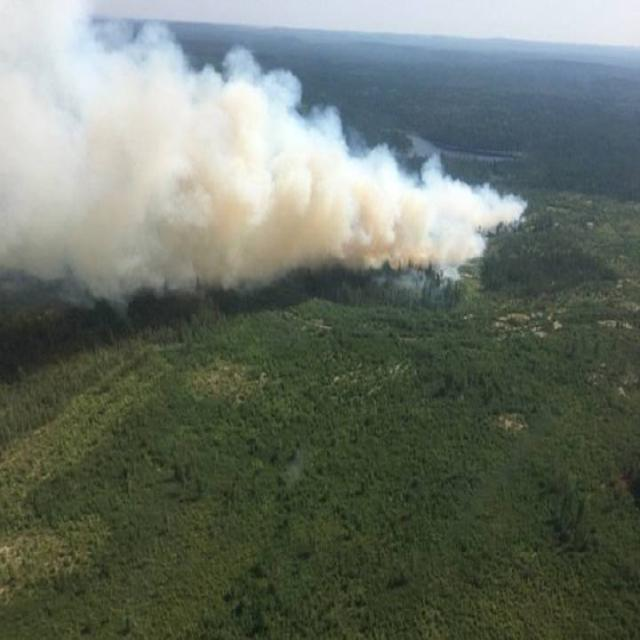Smoke: (0, 0, 525, 300)
